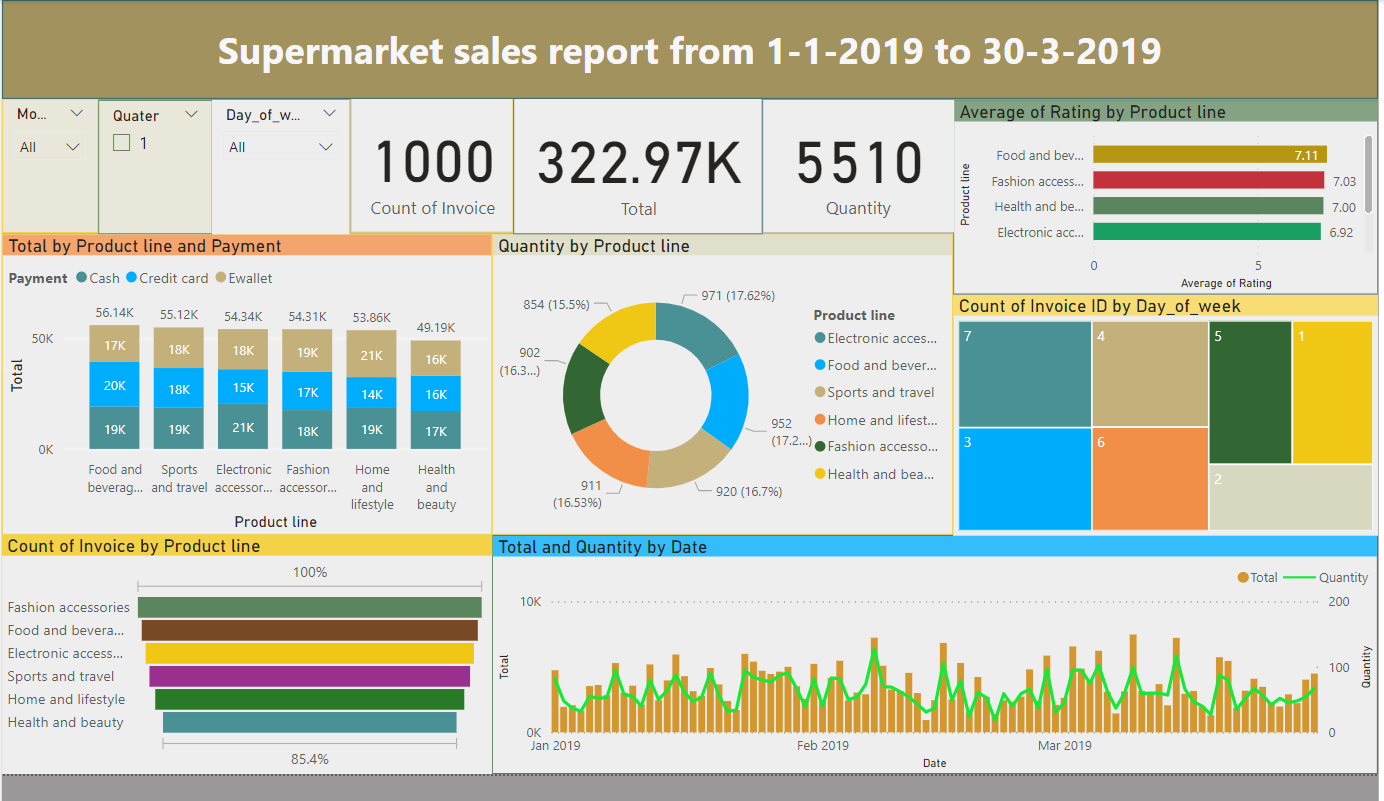

The page's visual inventory and layout, read from the dashboard file:
{"tool":"powerbi","page":{"name":"Page 1","canvas":[1280,720],"ordinal":0},"visuals":[{"type":"columnChart","fields":{"Category":["Dim Product.Product line"],"Y":["Sum(Fact Sales.Total)"],"Series":["Dim Payment.Payment"]},"box":[0,217.6,456,279.9],"z":0},{"type":"donutChart","fields":{"Category":["Dim Product.Product line"],"Y":["Sum(Fact Sales.Quantity)"]},"box":[456,217.6,429.1,279.9],"z":1000},{"type":"slicer","fields":{"Values":["Dim date.Month"]},"box":[0,91.7,89.2,124.7],"z":2000},{"type":"lineClusteredColumnComboChart","fields":{"Category":["Dim date.Date"],"Y":["Sum(Fact Sales.Total)"],"Y2":["Sum(Fact Sales.Quantity)"]},"box":[456,497.5,823.9,222.5],"z":3000},{"type":"card","fields":{"Values":["CountNonNull(Fact Sales.Invoice ID)"]},"box":[323.9,90.5,151.6,125.9],"z":4000},{"type":"card","fields":{"Values":["Sum(Fact Sales.Total)"]},"box":[475.5,90.5,232.3,127.1],"z":5000},{"type":"clusteredBarChart","fields":{"Category":["Dim Product.Product line"],"Y":["Avg(Fact Sales.Rating)"]},"box":[885,92.9,394.8,180.9],"z":6000},{"type":"slicer","fields":{"Values":["Dim date.Quater"]},"box":[89.2,92.9,106.3,124.7],"z":7000},{"type":"shape","box":[0,0,1279.9,91.7],"z":8000},{"type":"funnel","fields":{"Category":["Dim Product.Product line"],"Y":["CountNonNull(Fact Sales.Invoice ID)"]},"box":[0,497.5,456,222.5],"z":9000},{"type":"card","fields":{"Values":["Sum(Fact Sales.Quantity)"]},"box":[707.8,92.9,177.2,123.5],"z":10000},{"type":"slicer","fields":{"Values":["Dim date.Day_of_week"]},"box":[195.6,92.9,128.4,124.7],"z":11000},{"type":"treemap","fields":{"Group":["Dim date.Day_of_week"],"Values":["CountNonNull(Fact Sales.Invoice ID)"]},"box":[885,274,395,224],"z":12000}]}

Visuals, with their boxes in screenshot pixels (x1, y1, x2, y2), scaled from the page's 1280x720 canvas onto the 1384x801 screenshot:
columnChart - Dim Product.Product line x Sum(Fact Sales.Total): bbox=[0, 242, 493, 553]
donutChart - Dim Product.Product line x Sum(Fact Sales.Quantity): bbox=[493, 242, 957, 553]
slicer - Dim date.Month: bbox=[0, 102, 96, 241]
lineClusteredColumnComboChart - Dim date.Date x Sum(Fact Sales.Total): bbox=[493, 553, 1383, 800]
card - CountNonNull(Fact Sales.Invoice ID): bbox=[350, 101, 514, 241]
card - Sum(Fact Sales.Total): bbox=[514, 101, 765, 242]
clusteredBarChart - Dim Product.Product line x Avg(Fact Sales.Rating): bbox=[957, 103, 1383, 305]
slicer - Dim date.Quater: bbox=[96, 103, 211, 242]
shape: bbox=[0, 0, 1383, 102]
funnel - Dim Product.Product line x CountNonNull(Fact Sales.Invoice ID): bbox=[0, 553, 493, 800]
card - Sum(Fact Sales.Quantity): bbox=[765, 103, 957, 241]
slicer - Dim date.Day_of_week: bbox=[211, 103, 350, 242]
treemap - Dim date.Day_of_week x CountNonNull(Fact Sales.Invoice ID): bbox=[957, 305, 1383, 554]
